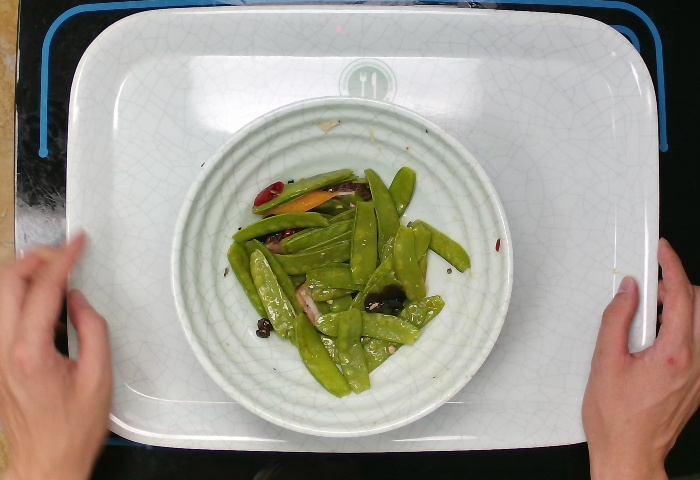JYsf-Da_Tang_Wan: (166, 90, 517, 441)
